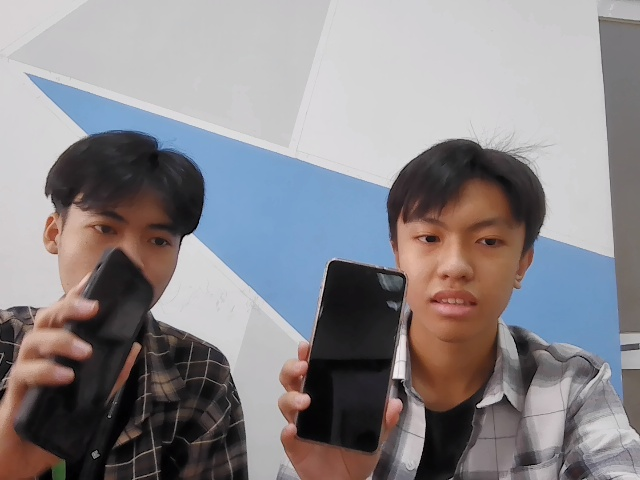human: (390, 130, 534, 341)
phone: (13, 248, 158, 461), (303, 250, 404, 460)
